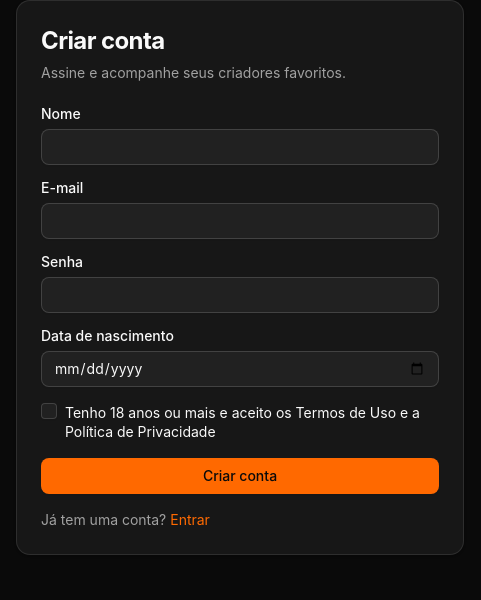
Test case: SignupPage › shows the server 400 UNDERAGE message
The width and height of the screenshot is (481, 600).
Type "Ana Souza" into the field labelled "Nome" at (240, 147), box [41, 129, 439, 165]
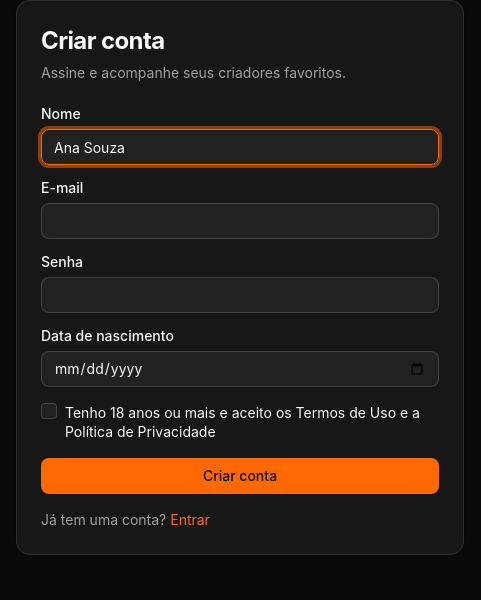
Type "ana@example.com" into the field labelled "E-mail" at (240, 221), box [41, 203, 439, 239]
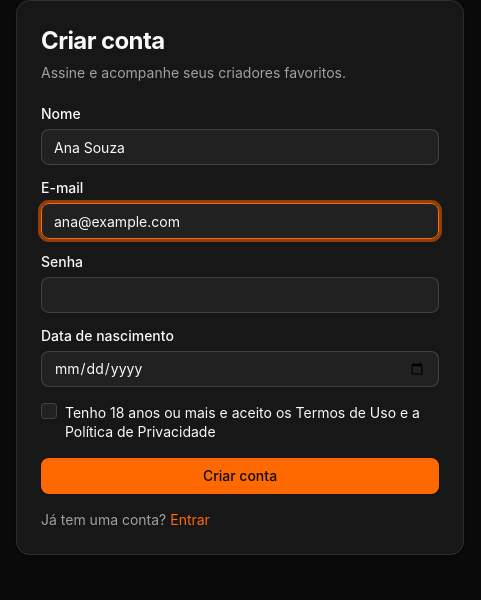
Type "senhaforte123" into the password field labelled "Senha" at (240, 295), box [41, 277, 439, 313]
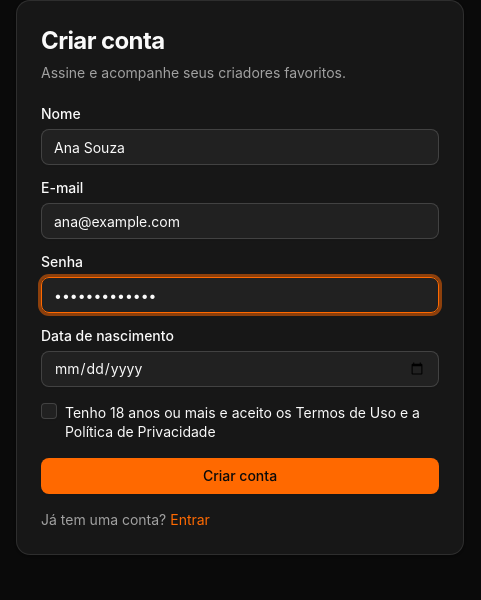
Type "1990-05-20" into the date field labelled "Data de nascimento" at (240, 369), box [41, 351, 439, 387]
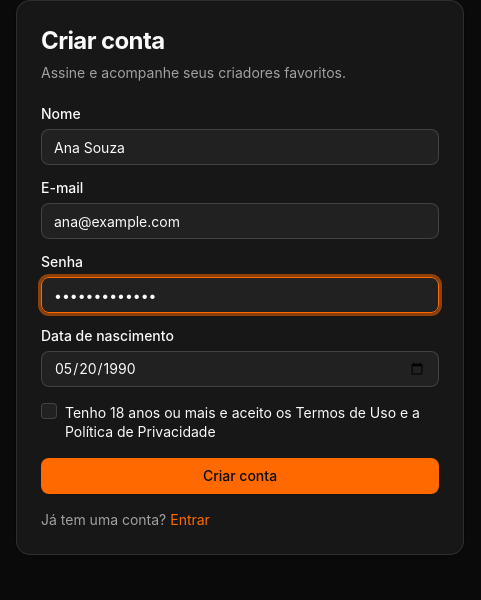
Click the checkbox named "Tenho 18 anos ou mais e aceito os Termos de Uso e a Política de Privacidade" at (49, 411), box [41, 403, 57, 419]
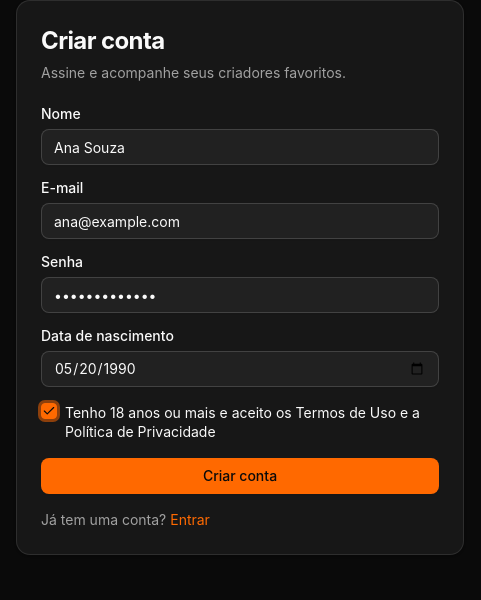
Click the button "Criar conta" at (240, 476), box [41, 458, 439, 494]
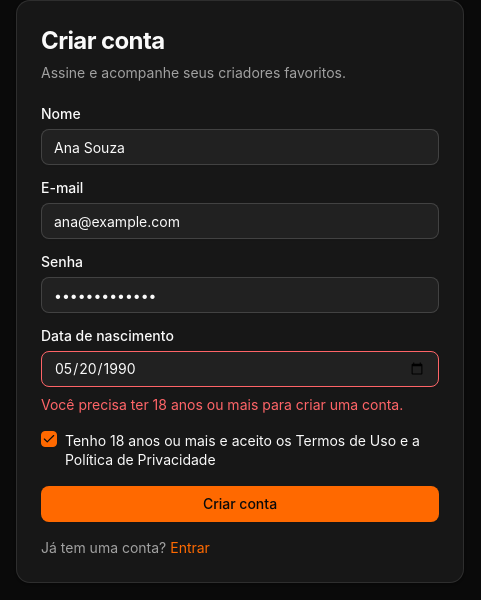
Expected: the text "Você precisa ter 18 anos ou mais para criar uma conta." is shown, [41, 395, 439, 415]
